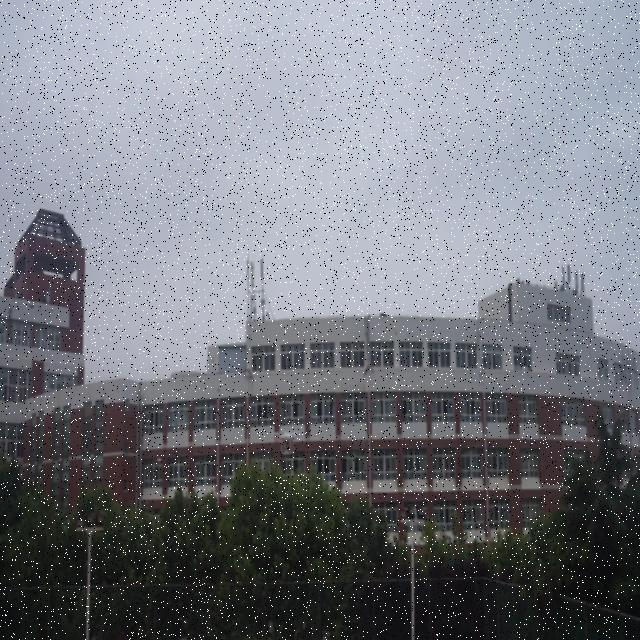UAV: (271, 431, 302, 454)
